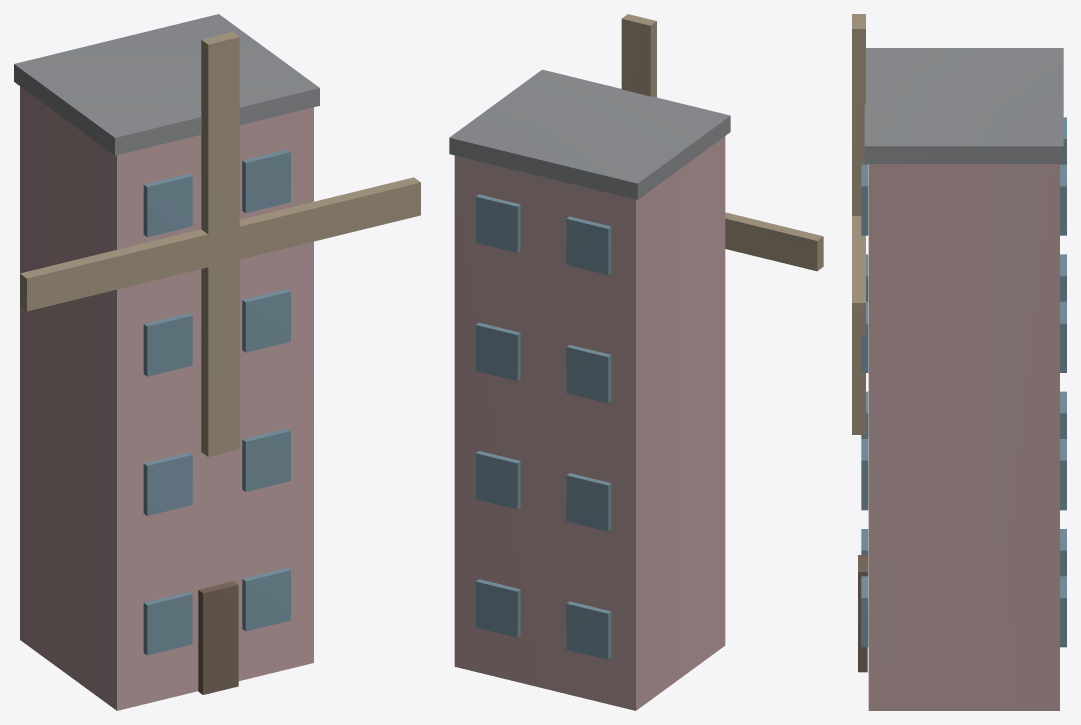
The model's file is windmill-02.glb.
3 views of the same model, side by side, from view 1: azimuth 30°, elevation 25°; view 2: azimuth 150°, elevation 25°; view 3: azimuth 270°, elevation 25° (orthographic). The views are drawn at different scales.
Visible parts, largest first — view 1: world; view 2: world; view 3: world.
Part boxes in pixels (left/top/right/bottom): world: left=14, top=14, right=420, bottom=710; world: left=449, top=14, right=823, bottom=710; world: left=852, top=14, right=1066, bottom=710.
Bounding box in the file's own units: 1.62 × 2.56 × 0.7778.
